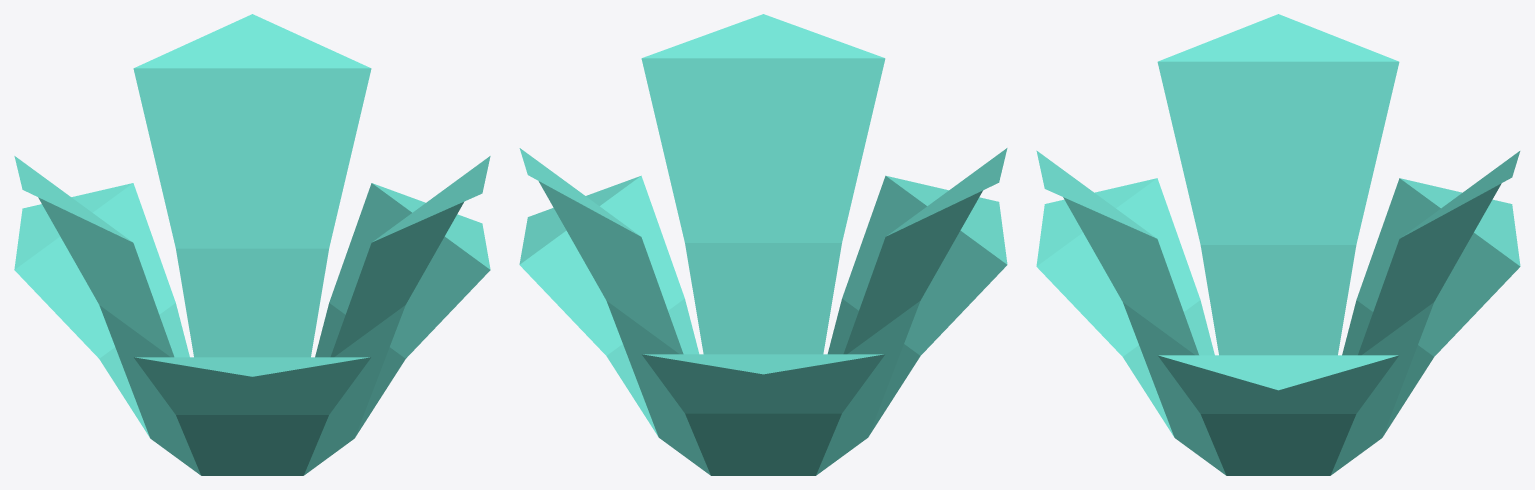
Rendered from plant_bushLarge.glb.
3 renders of one model, left to right at view 1: azimuth 30°, elevation 25°; view 2: azimuth 150°, elevation 25°; view 3: azimuth 270°, elevation 25°, orthographic. The views are drawn at different scales.
Visible parts, largest first — view 1: plant_bushLarge; view 2: plant_bushLarge; view 3: plant_bushLarge.
Boxes of the visible parts, <box> form: plant_bushLarge: <box>14,14,490,475</box>; plant_bushLarge: <box>519,14,1007,475</box>; plant_bushLarge: <box>1036,14,1520,475</box>.
Size of the model in its own units: 0.3743 by 0.2429 by 0.3357.
